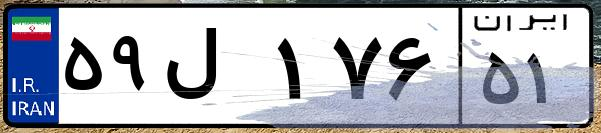1: (270, 28, 330, 110), (525, 38, 570, 115)
5: (57, 26, 110, 100), (475, 38, 525, 113)
6: (385, 28, 445, 110)
7: (330, 28, 385, 110)
9: (110, 28, 158, 98)
ل: (158, 20, 270, 120)
